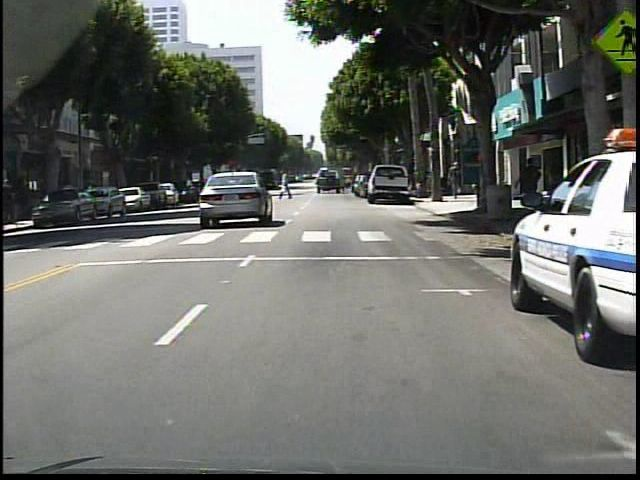person: (517, 156, 541, 218), (449, 159, 465, 200), (279, 172, 295, 200), (552, 152, 553, 185)
